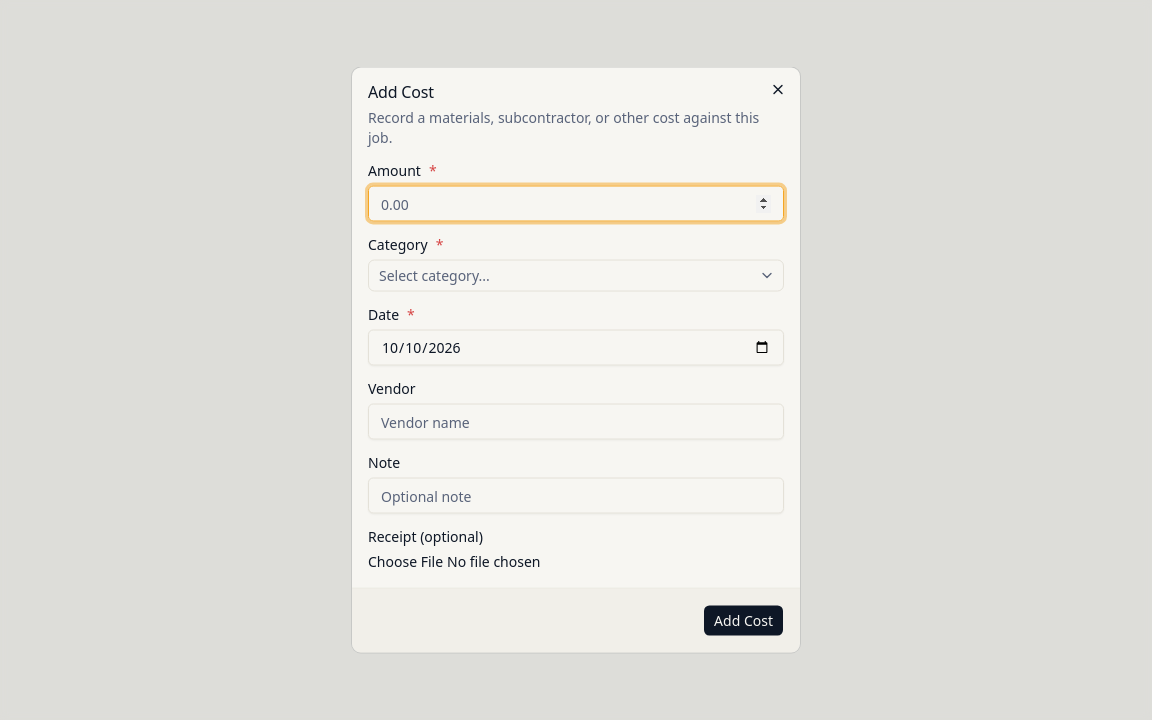
Test: AddCostDialog › blocks submit when amount is 0 or less
In the number field labelled "Amount *": [576, 204] box [368, 186, 784, 222], type "0"
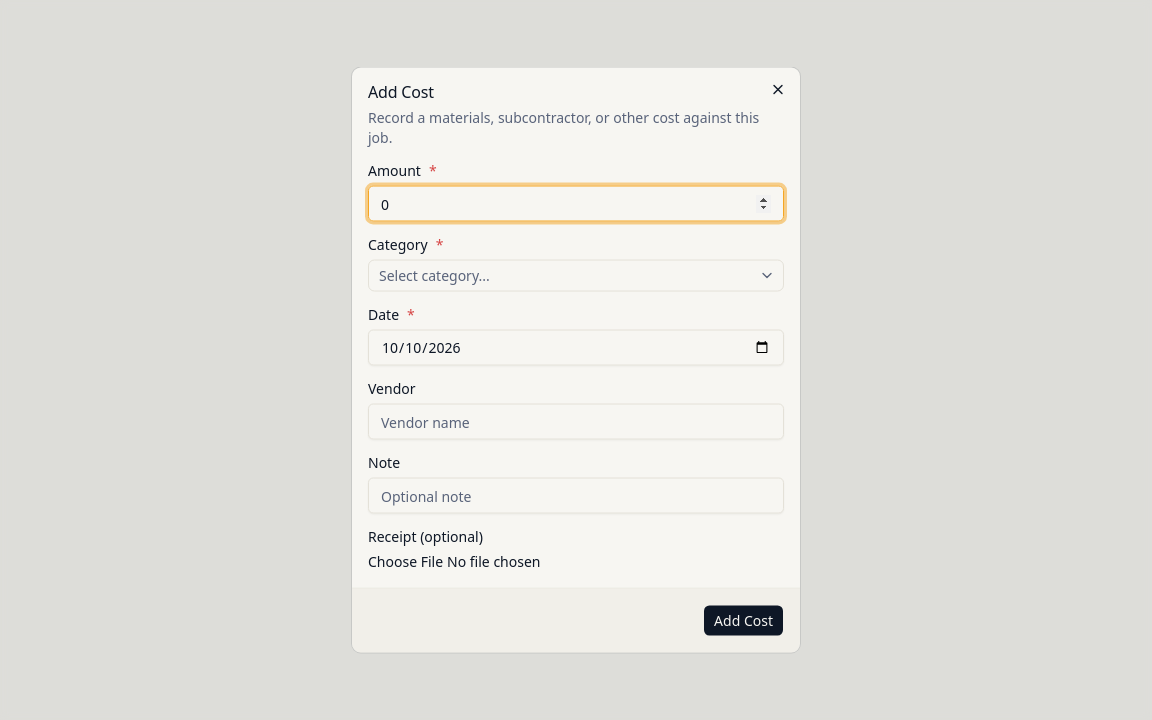
Click the button "Add Cost": [744, 620] box [703, 604, 784, 636]
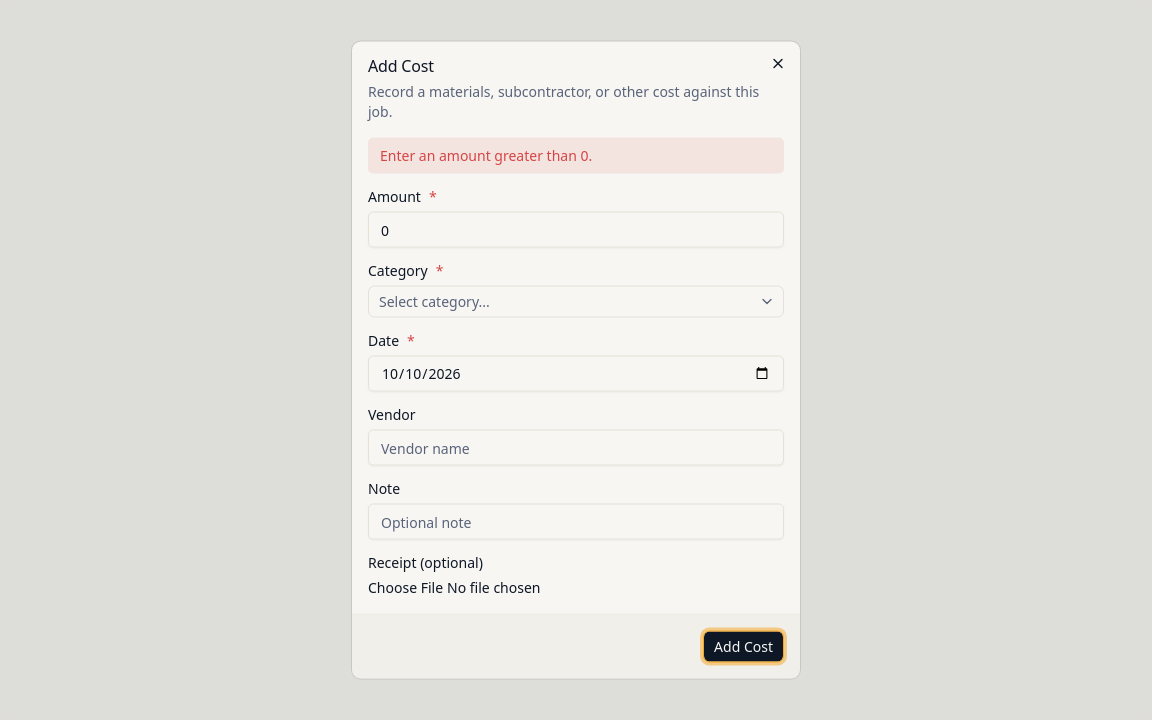
Now the text "Enter an amount greater than 0." is shown, box [368, 138, 784, 174]
